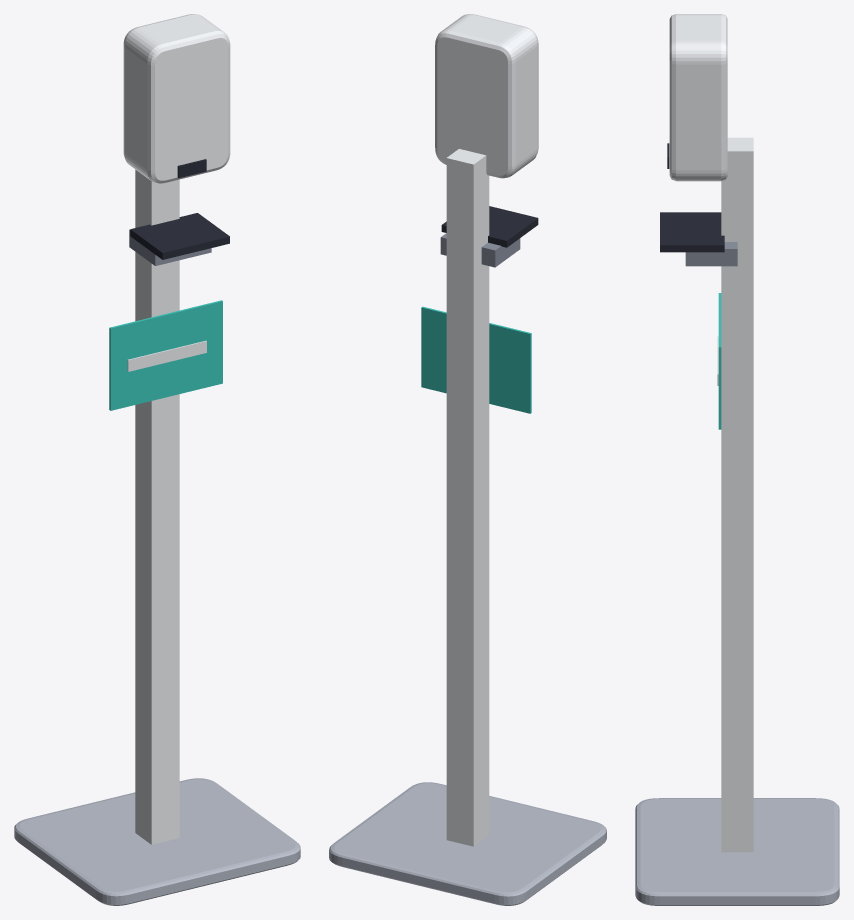
The model's file is hos-022.glb.
The picture shows the model from 3 angles, left to right: view 1: azimuth 30°, elevation 25°; view 2: azimuth 150°, elevation 25°; view 3: azimuth 270°, elevation 25°; orthographic projection. The views are drawn at different scales.
Visible parts, largest first — view 1: white, steel, accent_teal, plastic_dark, locker_grey; view 2: white, steel, accent_teal, plastic_dark, locker_grey; view 3: white, steel, plastic_dark, locker_grey, accent_teal.
Part boxes in pixels (bbox=[...]): white: bbox=[123, 14, 230, 844]; steel: bbox=[14, 778, 300, 905]; accent_teal: bbox=[109, 300, 222, 410]; plastic_dark: bbox=[130, 159, 229, 259]; locker_grey: bbox=[129, 229, 211, 265]; white: bbox=[435, 14, 538, 846]; steel: bbox=[329, 782, 606, 905]; accent_teal: bbox=[421, 306, 531, 413]; plastic_dark: bbox=[441, 206, 538, 247]; locker_grey: bbox=[440, 233, 520, 267]; white: bbox=[669, 14, 753, 852]; steel: bbox=[635, 798, 839, 905]; plastic_dark: bbox=[660, 143, 724, 252]; locker_grey: bbox=[685, 242, 737, 266]; accent_teal: bbox=[718, 293, 721, 429].
Size of the model in its own units: 0.356 by 1.42 by 0.316.
